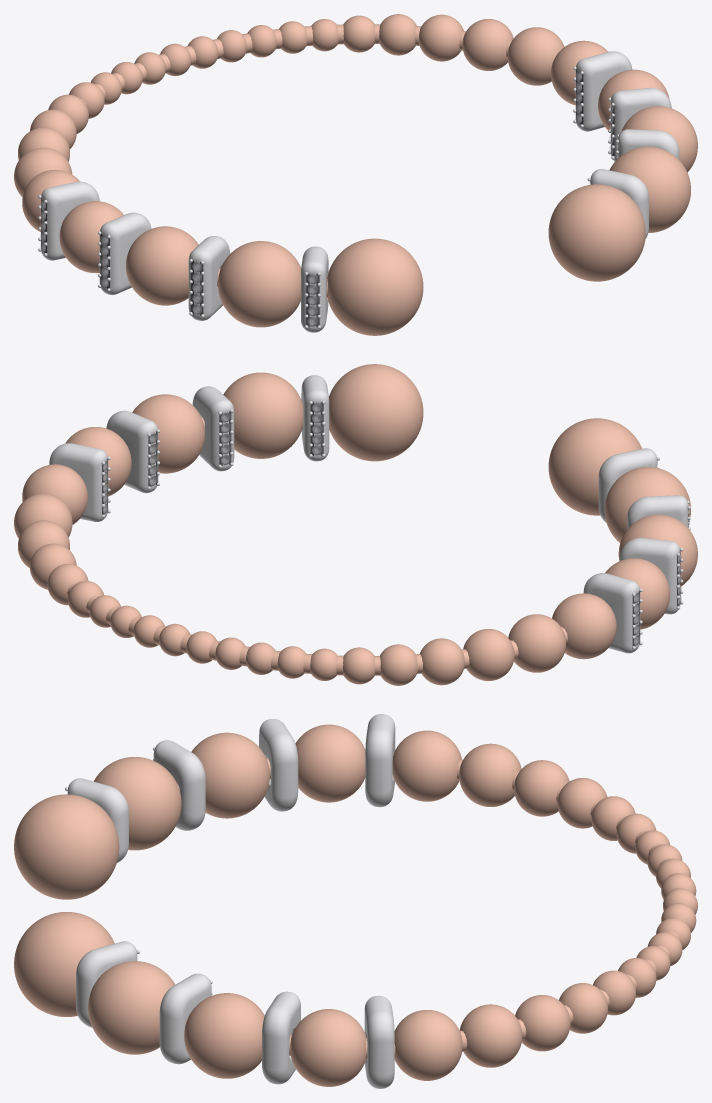
File: bracelet-bloom-serti.glb
The picture shows the model from 3 angles, top to bottom: view 1: azimuth 30°, elevation 25°; view 2: azimuth 150°, elevation 25°; view 3: azimuth 270°, elevation 25°; orthographic projection. The views are drawn at different scales.
Visible parts, largest first — view 1: Boule_28_D, Boule_00_G, Boule_01_G, Boule_02_G, Boule_27_D, Boule_03_G, Barrette_3_G_cadre, Barrette_1_D_cadre, Barrette_2_G_cadre, Boule_23_D, Barrette_4_G_cadre, Barrette_1_G_cadre (+26 smaller); view 2: Boule_28_D, Boule_27_D, Boule_00_G, Boule_26_D, Boule_04_G, Boule_01_G, Barrette_2_D_cadre, Barrette_4_G_cadre, Barrette_3_D_cadre, Boule_05_G, Barrette_1_D_cadre, Barrette_4_D_cadre (+26 smaller); view 3: Boule_00_G, Boule_28_D, Boule_27_D, Boule_26_D, Boule_02_G, Boule_01_G, Boule_25_D, Boule_03_G, Boule_24_D, Boule_04_G, Boule_23_D, Boule_05_G (+21 smaller).
Boxes of the visible parts, x1,y1,x2,y2 form: Boule_28_D: (548, 184, 645, 281); Boule_00_G: (327, 238, 423, 335); Boule_01_G: (218, 241, 300, 327); Boule_02_G: (126, 226, 198, 305); Boule_27_D: (609, 146, 690, 232); Boule_03_G: (59, 201, 123, 272); Barrette_3_G_cadre: (98, 212, 151, 295); Barrette_1_D_cadre: (573, 51, 632, 131); Barrette_2_G_cadre: (188, 236, 230, 320); Boule_23_D: (507, 27, 564, 85); Barrette_4_G_cadre: (38, 181, 99, 260); Barrette_1_G_cadre: (301, 246, 328, 332); Boule_28_D: (329, 364, 423, 461); Boule_27_D: (223, 372, 303, 458); Boule_00_G: (548, 418, 641, 515); Boule_26_D: (132, 394, 204, 473); Boule_04_G: (552, 593, 616, 659); Boule_01_G: (604, 467, 690, 542); Barrette_2_D_cadre: (106, 410, 159, 493); Barrette_4_G_cadre: (583, 573, 642, 653); Barrette_3_D_cadre: (192, 386, 234, 471); Boule_05_G: (508, 614, 565, 672); Barrette_1_D_cadre: (49, 443, 110, 521); Barrette_4_D_cadre: (301, 375, 329, 461); Boule_00_G: (14, 794, 119, 899); Boule_28_D: (14, 912, 114, 1016); Boule_27_D: (88, 961, 175, 1054); Boule_26_D: (184, 993, 264, 1078); Boule_02_G: (191, 732, 269, 818); Boule_01_G: (94, 757, 181, 850); Boule_25_D: (290, 1009, 366, 1086); Boule_03_G: (295, 724, 365, 802); Boule_24_D: (394, 1010, 462, 1080); Boule_04_G: (392, 730, 461, 801); Boule_23_D: (459, 1004, 522, 1067); Boule_05_G: (459, 743, 521, 806).
Bounding box in the file's own units: 0.077 × 0.0108 × 0.0702.
